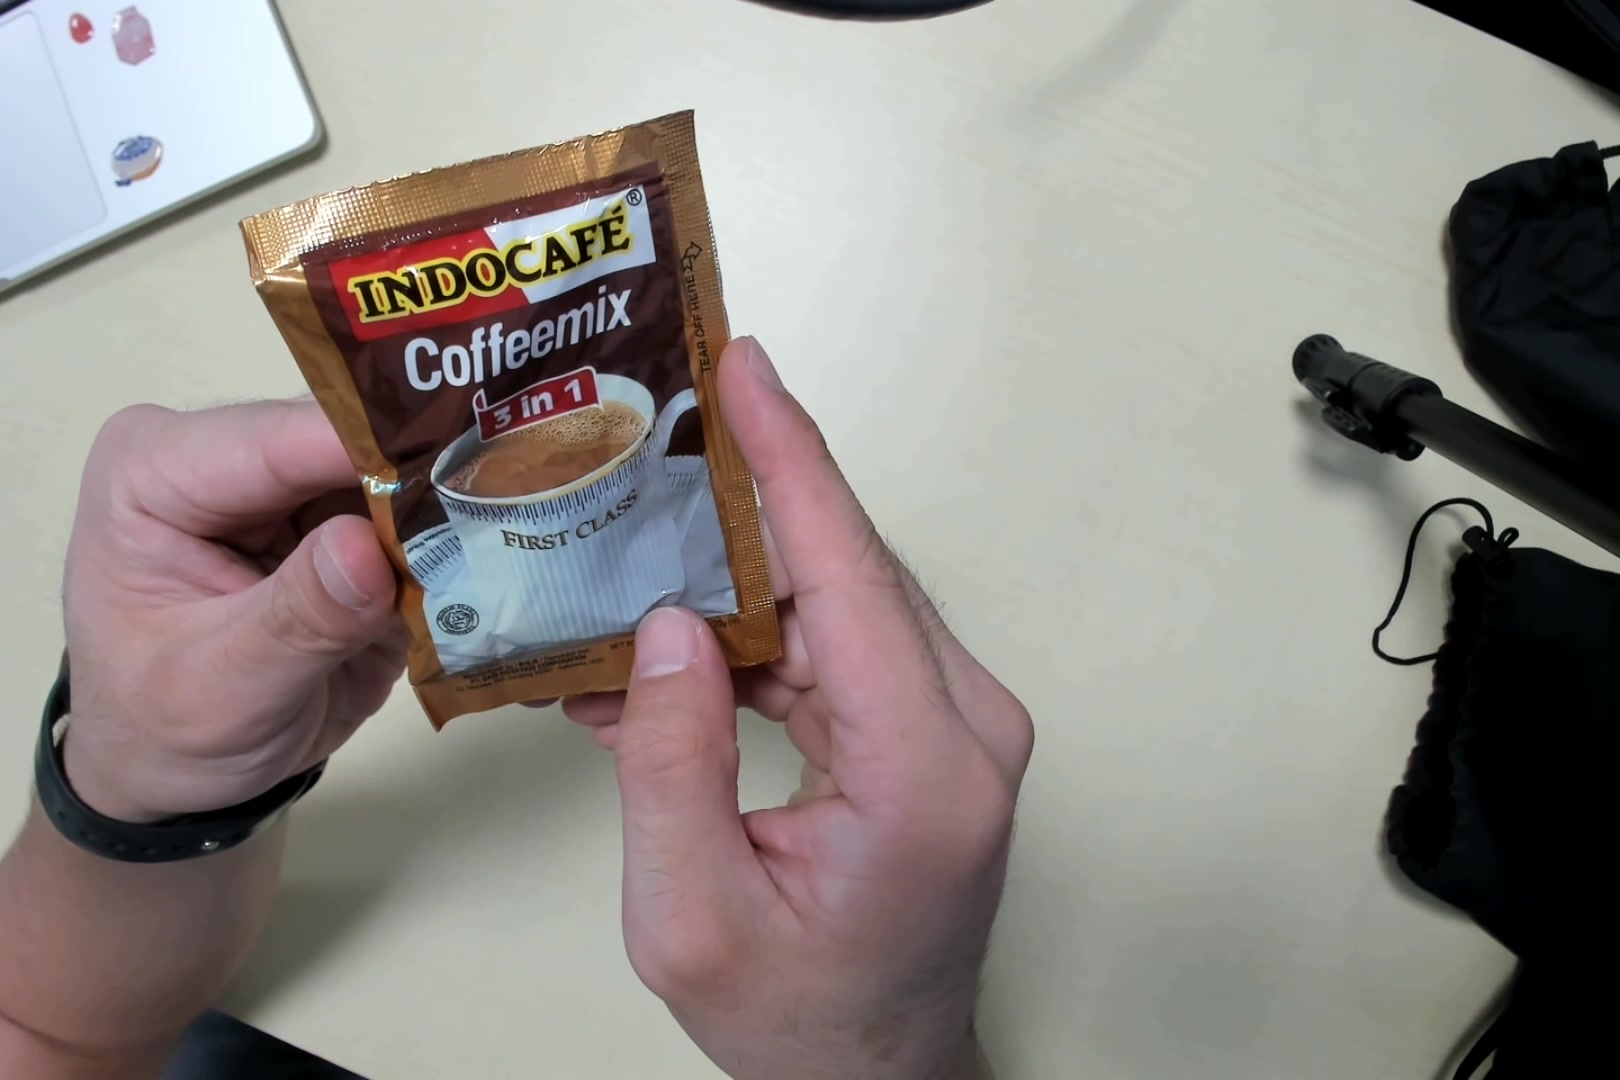Coffee(Powder)_0-99g_NonHalal_NonHealthy: (223, 108, 790, 714)
